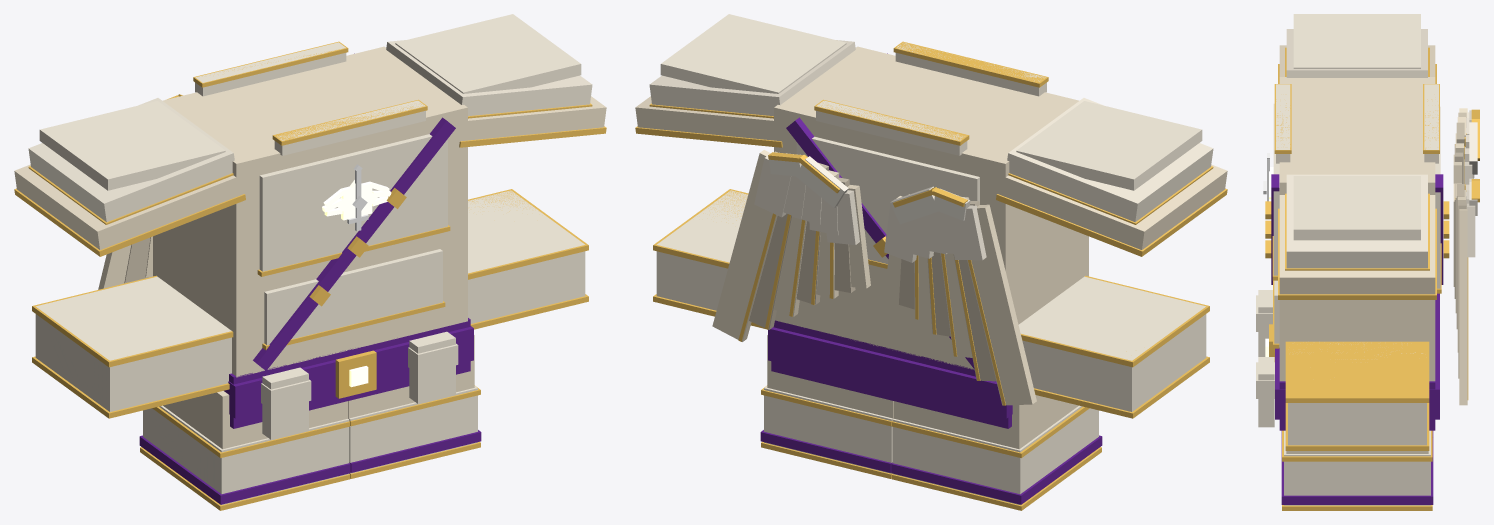
3 renders of one model, left to right at view 1: azimuth 30°, elevation 25°; view 2: azimuth 150°, elevation 25°; view 3: azimuth 270°, elevation 25°, orthographic. The views are drawn at different scales.
Parts seen in each view (by area): view 1: sovereign-skyweave; view 2: sovereign-skyweave; view 3: sovereign-skyweave.
Boxes of the visible parts, x1,y1,x2,y2 form: sovereign-skyweave: [14, 14, 606, 510]; sovereign-skyweave: [635, 14, 1227, 510]; sovereign-skyweave: [1256, 14, 1479, 510].
Bounding box in the file's own units: 1.21 × 0.8133 × 0.4935.
